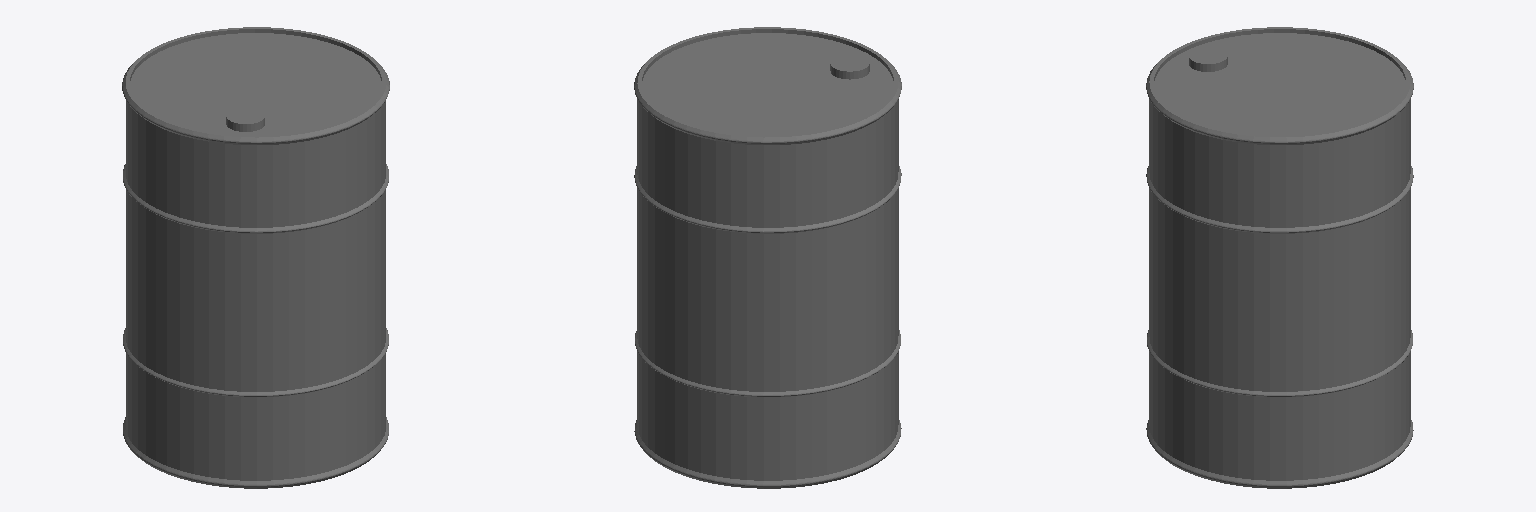
Rendered from barrel.obj.
The picture shows the model from 3 angles: view 1: azimuth 30°, elevation 25°; view 2: azimuth 150°, elevation 25°; view 3: azimuth 270°, elevation 25°; orthographic projection.
Parts seen in each view (by area): view 1: Barrel; view 2: Barrel; view 3: Barrel.
Part boxes in pixels (x1,y1,x2,y2): Barrel: (122,27,389,488); Barrel: (634,27,901,488); Barrel: (1146,27,1413,488).
Size of the model in its own units: 0.6147 by 0.9 by 0.6154.